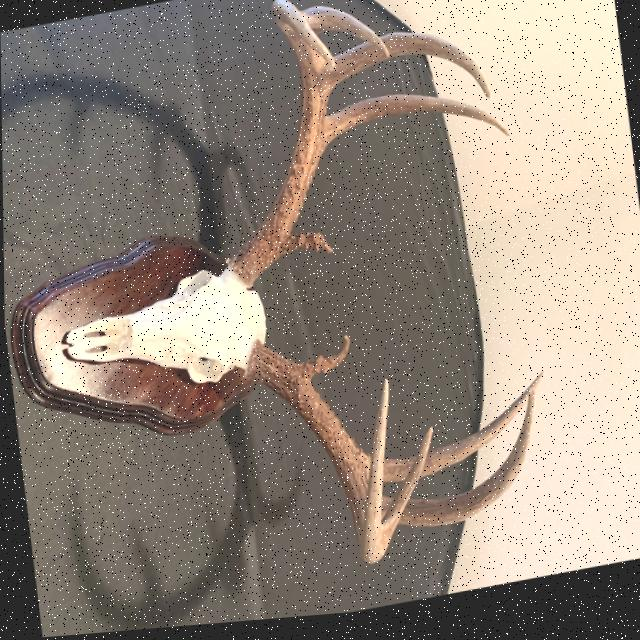L-F: (241, 342, 387, 570)
L-G1: (295, 340, 348, 386)
L-G4: (378, 432, 432, 558)
R-F: (223, 2, 334, 292)
R-G1: (279, 236, 332, 260)
R-G2: (323, 101, 510, 152)
